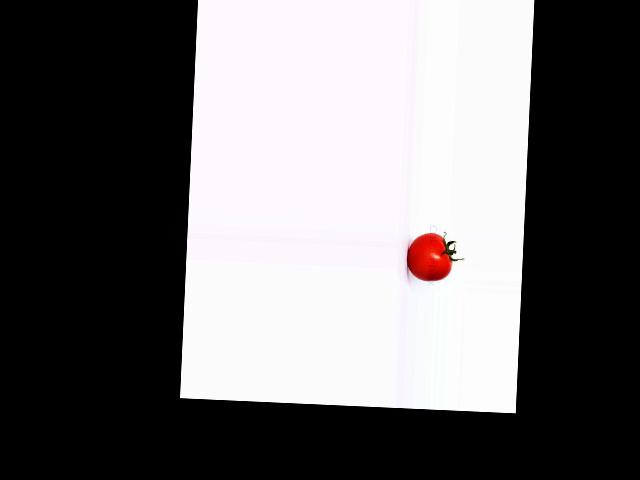tomato: (406, 232, 453, 282)
